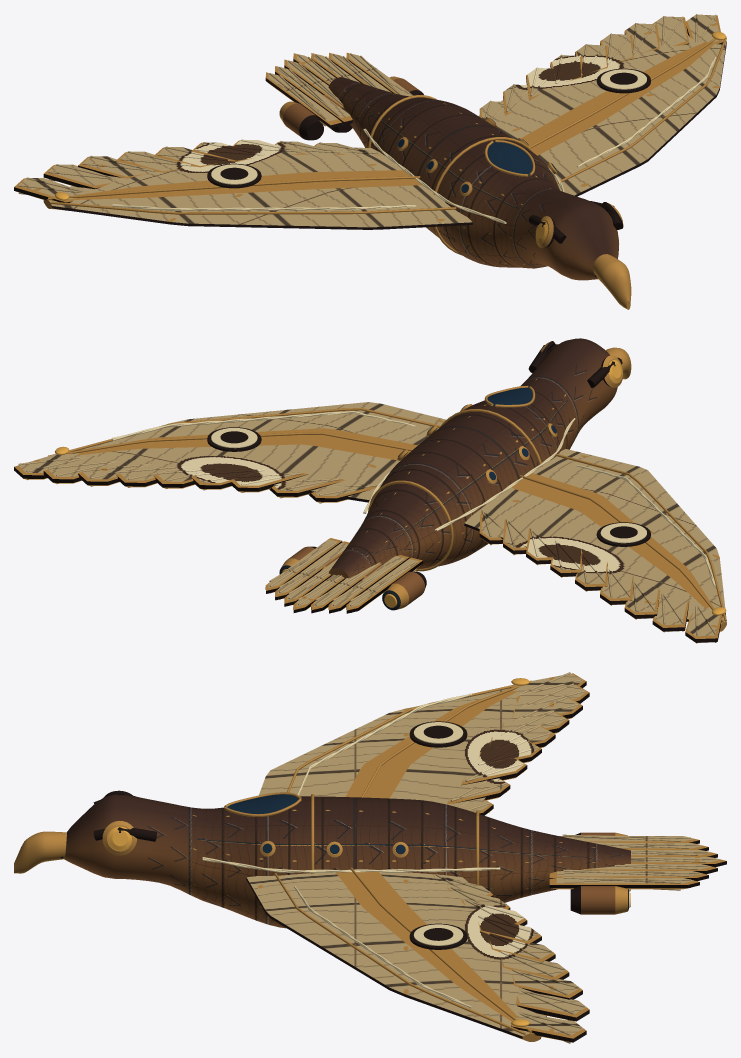
The picture shows the model from 3 angles, top to bottom: view 1: azimuth 30°, elevation 25°; view 2: azimuth 150°, elevation 25°; view 3: azimuth 270°, elevation 25°; orthographic projection. The views are drawn at different scales.
Parts seen in each view (by area): view 1: falcon_hull; view 2: falcon_hull; view 3: falcon_hull.
Part boxes in pixels (x1,y1,x2,y2): falcon_hull: [14, 14, 726, 309]; falcon_hull: [14, 338, 726, 643]; falcon_hull: [14, 672, 726, 1043].
Size of the model in its own units: 40 by 6.49 by 32.98.
Materials: 1 (1 with a texture image).
